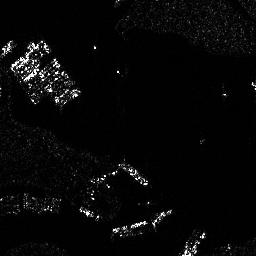ship: (119, 161, 151, 186)
